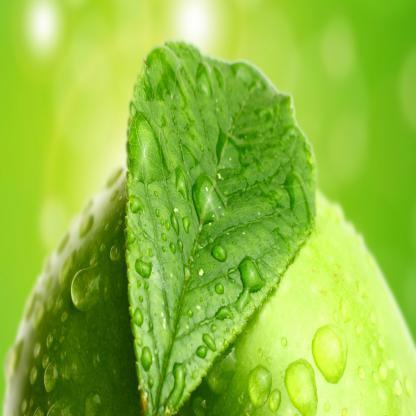Apple leaf: (122, 24, 324, 416)
